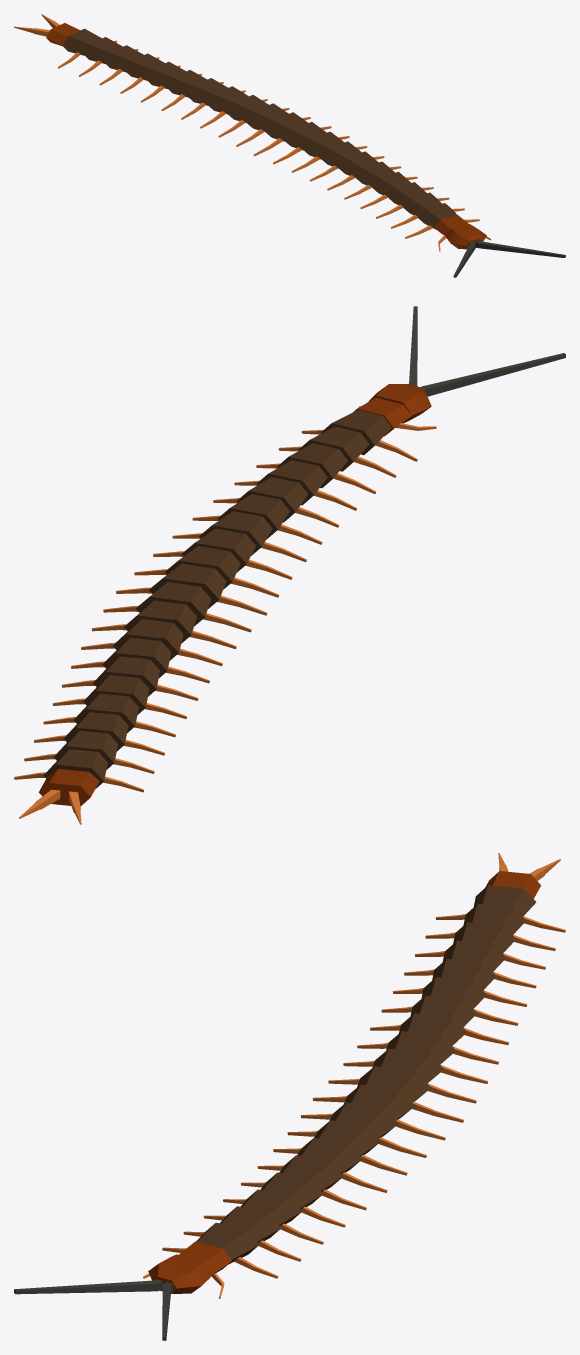
3 views of the same model, one above another, from view 1: azimuth 30°, elevation 25°; view 2: azimuth 150°, elevation 25°; view 3: azimuth 330°, elevation 25° (orthographic). The views are drawn at different scales.
Visible parts, largest first — view 1: Geo_Centipede Centipede_w_Deformer; view 2: Geo_Centipede Centipede_w_Deformer; view 3: Geo_Centipede Centipede_w_Deformer.
Boxes of the visible parts, x1,y1,x2,y2 form: Geo_Centipede Centipede_w_Deformer: (14,14,565,277); Geo_Centipede Centipede_w_Deformer: (14,306,565,824); Geo_Centipede Centipede_w_Deformer: (14,853,565,1340).
Bounding box in the file's own units: 16.29 × 2.14 × 64.77.
1 material, 1 textured.
